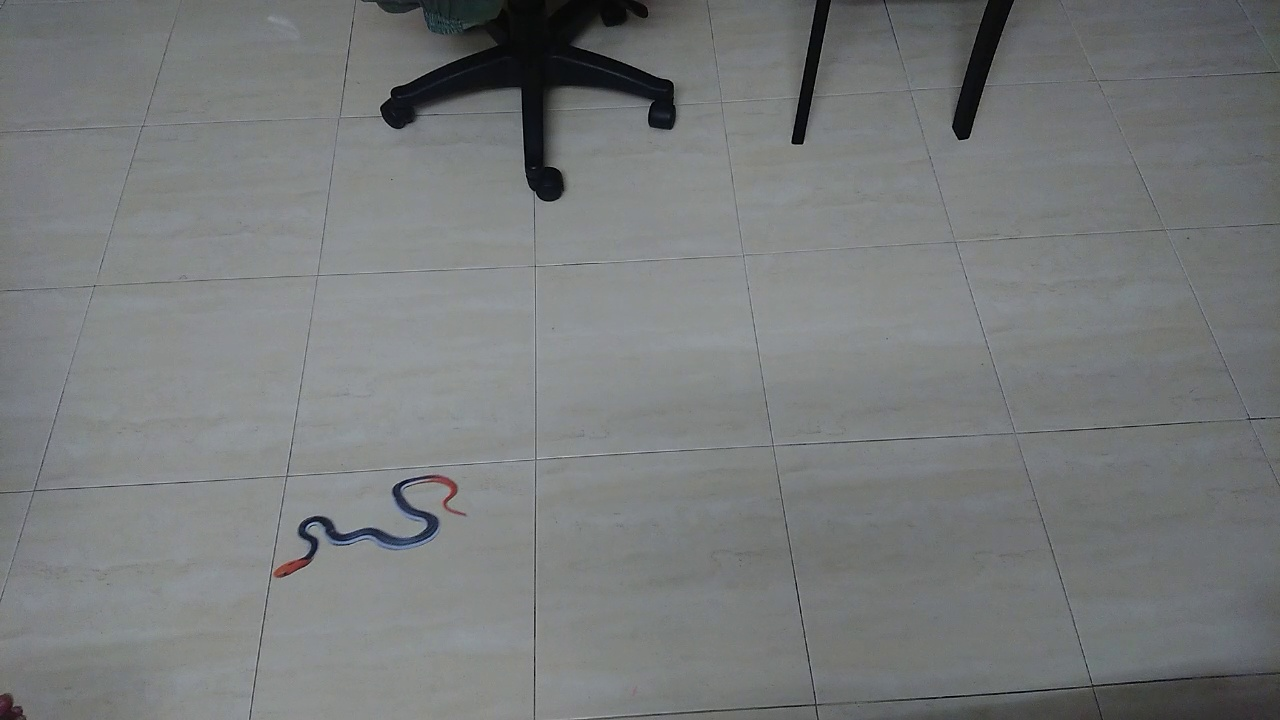snake: (251, 457, 479, 588)
